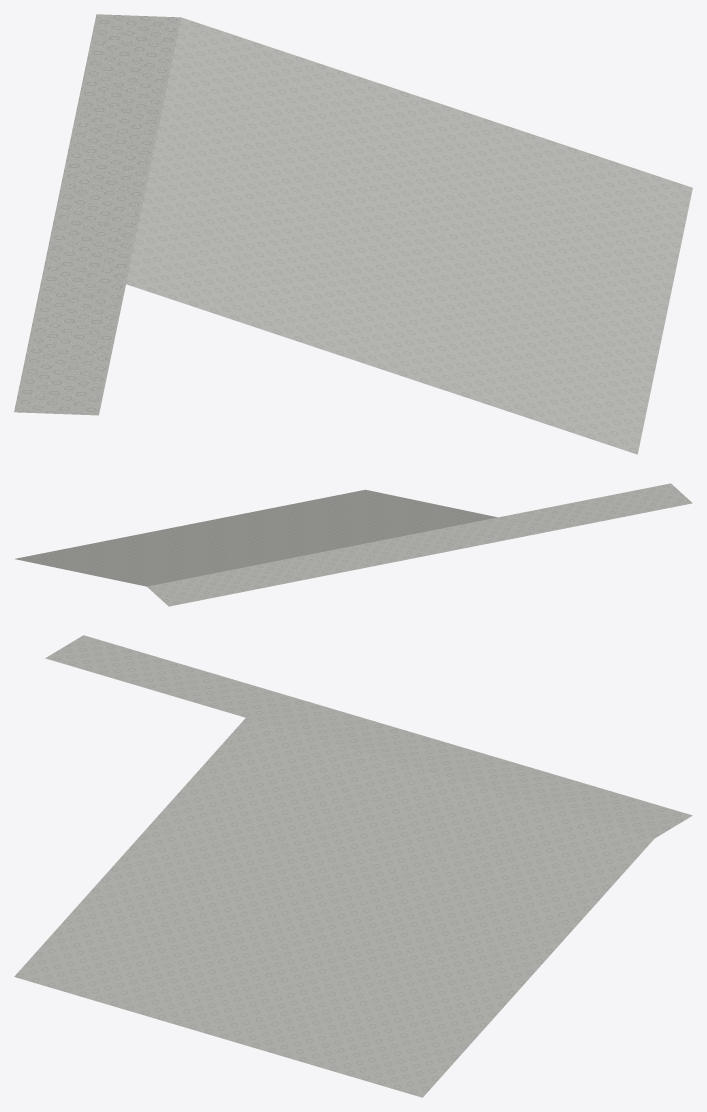
Rendered from kd_stage_136282_5_28_bounded.glb.
The picture shows the model from 3 angles, top to bottom: view 1: azimuth 30°, elevation 25°; view 2: azimuth 150°, elevation 25°; view 3: azimuth 270°, elevation 25°; orthographic projection. The views are drawn at different scales.
Visible parts, largest first — view 1: kd_stage_136282_5_28_bounded; view 2: kd_stage_136282_5_28_bounded; view 3: kd_stage_136282_5_28_bounded.
Boxes of the visible parts, x1,y1,x2,y2 form: kd_stage_136282_5_28_bounded: (14,14,692,454); kd_stage_136282_5_28_bounded: (15,483,692,606); kd_stage_136282_5_28_bounded: (14,635,692,1097).
Bounding box in the file's own units: 11.12 × 1.8 × 9.29.
1 material, 1 textured.
